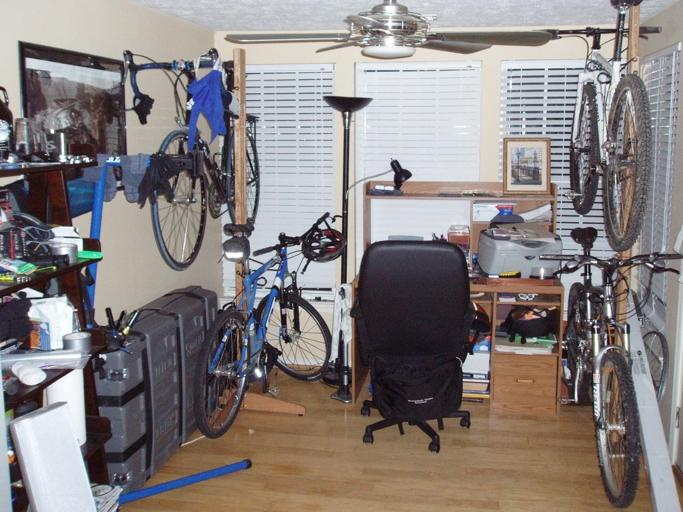non-vehicle: (537, 226, 681, 509), (192, 210, 346, 438), (120, 44, 260, 269), (550, 0, 660, 250)
